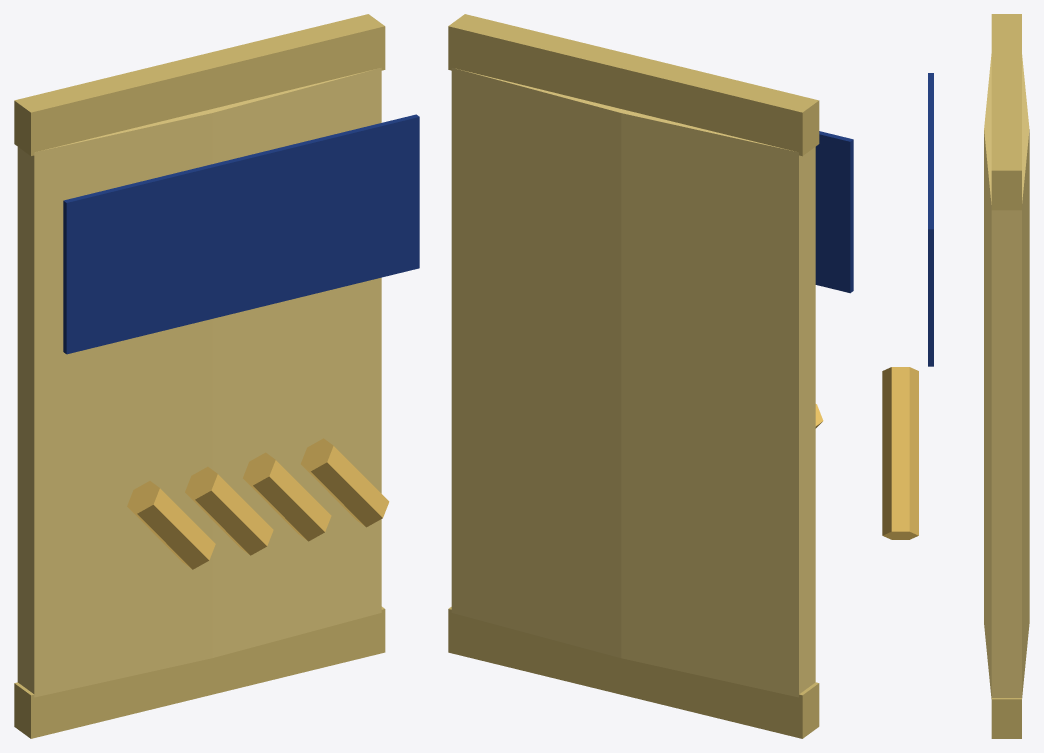
The model's file is g-pasta.glb.
3 views of the same model, side by side, from view 1: azimuth 30°, elevation 25°; view 2: azimuth 150°, elevation 25°; view 3: azimuth 270°, elevation 25° (orthographic). The views are drawn at different scales.
Parts seen in each view (by area): view 1: g_pasta; view 2: g_pasta; view 3: g_pasta.
Boxes of the visible parts, bbox=[...] form: g_pasta: bbox=[14, 14, 419, 738]; g_pasta: bbox=[448, 14, 853, 738]; g_pasta: bbox=[882, 14, 1029, 738].
Bounding box in the file's own units: 0.1224 × 0.2068 × 0.0485.
